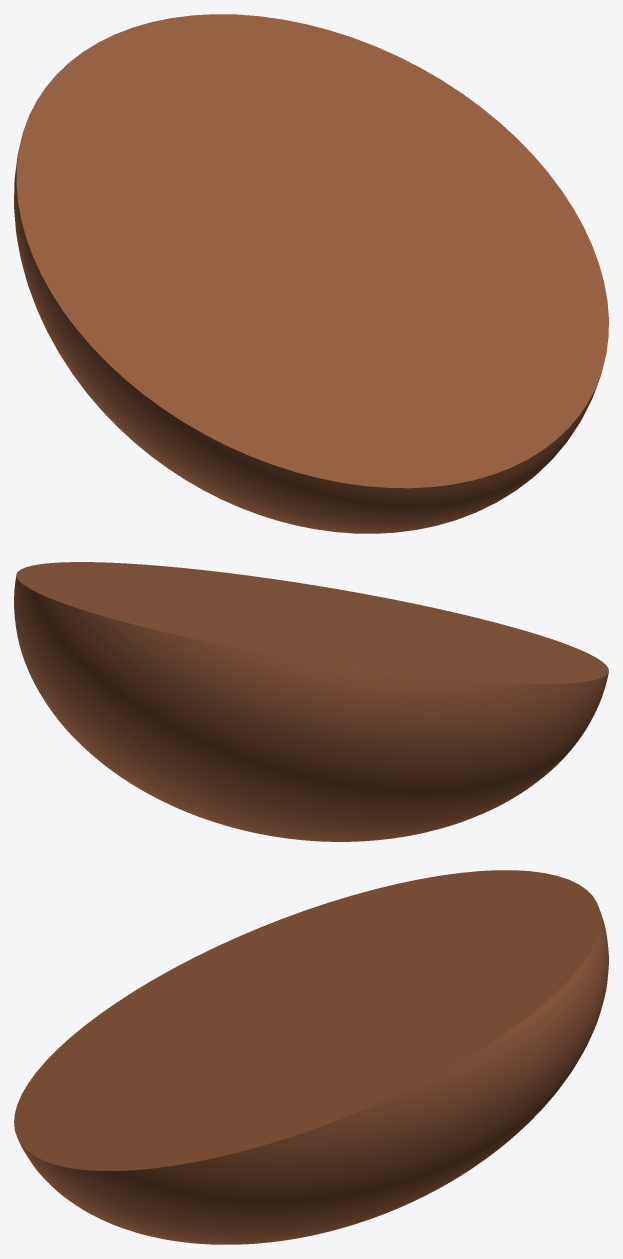
The model's file is plato.glb.
3 views of the same model, one above another, from view 1: azimuth 30°, elevation 25°; view 2: azimuth 150°, elevation 25°; view 3: azimuth 270°, elevation 25° (orthographic). The views are drawn at different scales.
Visible parts, largest first — view 1: mesh_id27; view 2: mesh_id27; view 3: mesh_id27.
Boxes of the visible parts, left/top/right/bottom form: mesh_id27: left=14, top=14, right=608, bottom=533; mesh_id27: left=14, top=562, right=608, bottom=841; mesh_id27: left=14, top=870, right=608, bottom=1244.
Size of the model in its own units: 0.3101 by 0.1934 by 0.3515.
Materials: 1 (1 with a texture image).
